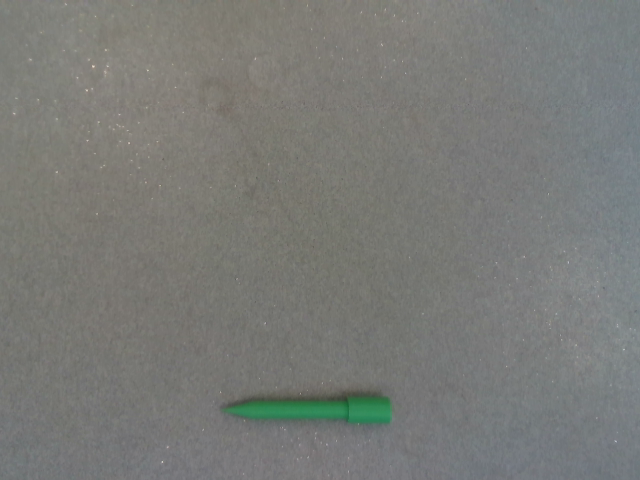Probe: (210, 388, 398, 431)
